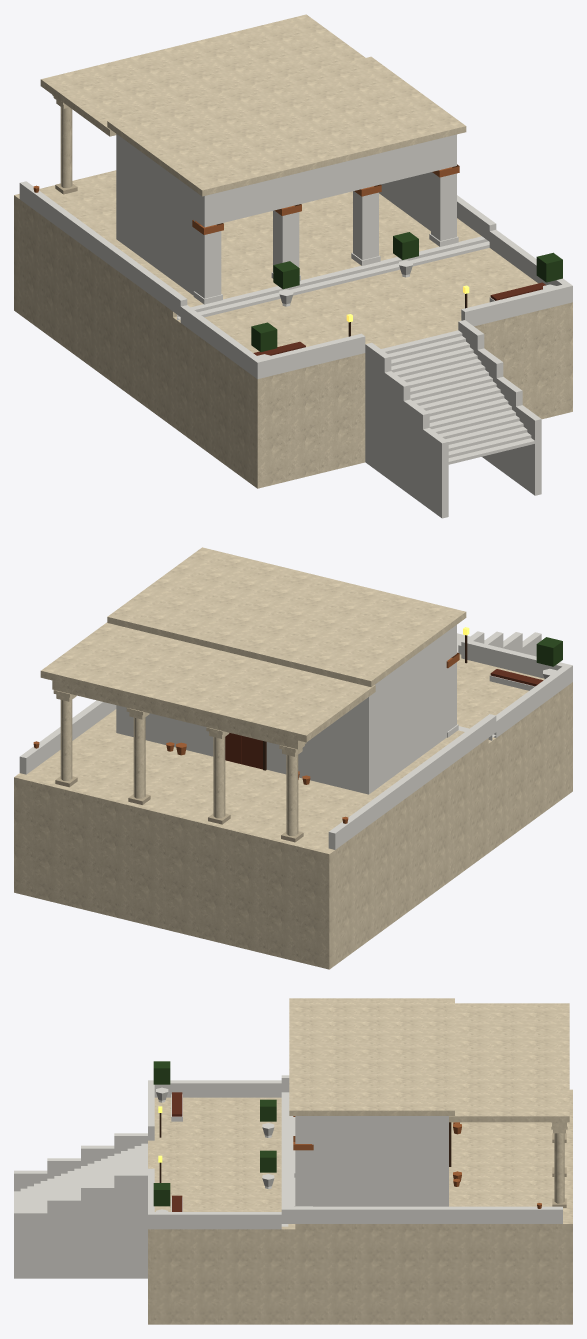
File: belvedere.glb
The picture shows the model from 3 angles, top to bottom: view 1: azimuth 30°, elevation 25°; view 2: azimuth 150°, elevation 25°; view 3: azimuth 270°, elevation 25°; orthographic projection. The views are drawn at different scales.
Visible parts, largest first — view 1: belvedere; view 2: belvedere; view 3: belvedere.
Boxes of the visible parts, bbox=[...] form: belvedere: bbox=[14, 14, 572, 518]; belvedere: bbox=[14, 547, 572, 969]; belvedere: bbox=[14, 998, 572, 1324].
Bounding box in the file's own units: 19 × 13.39 × 33.4.
8 materials, 1 textured.
